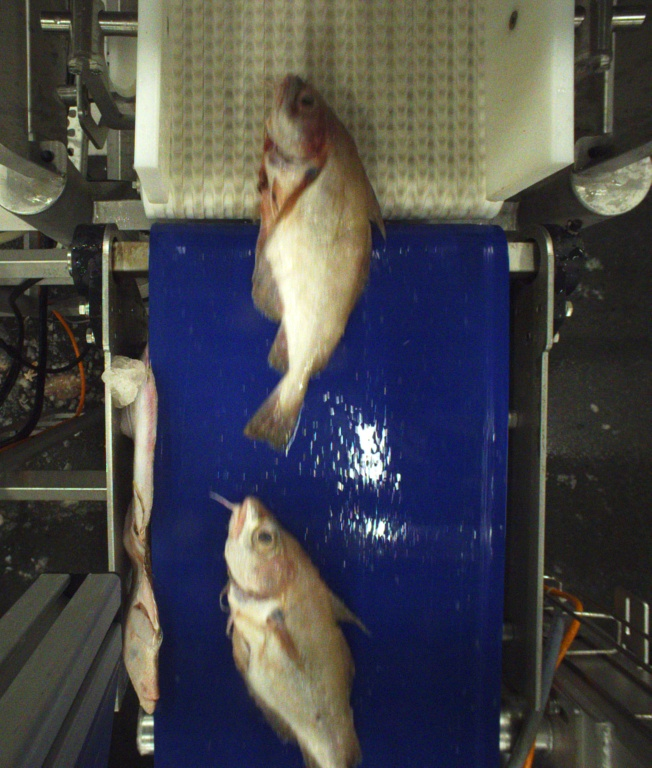BIB: (208, 492, 367, 768)
